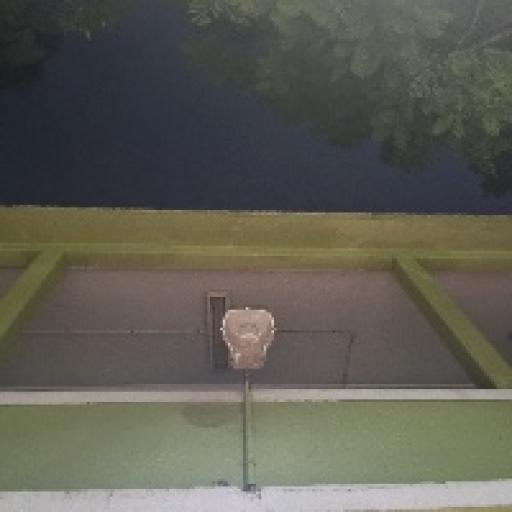Not Working: (209, 296, 292, 384)
